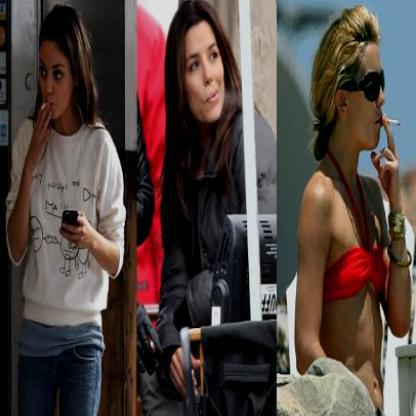cigarette: (384, 115, 402, 127), (40, 100, 48, 110)
person: (4, 0, 134, 415), (291, 2, 409, 415), (152, 0, 278, 350)
